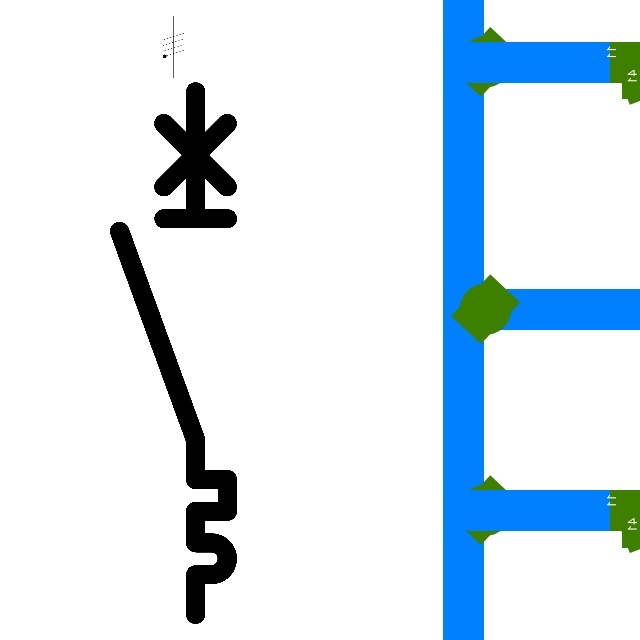interruptor_termomagnetico: (106, 78, 241, 628)
